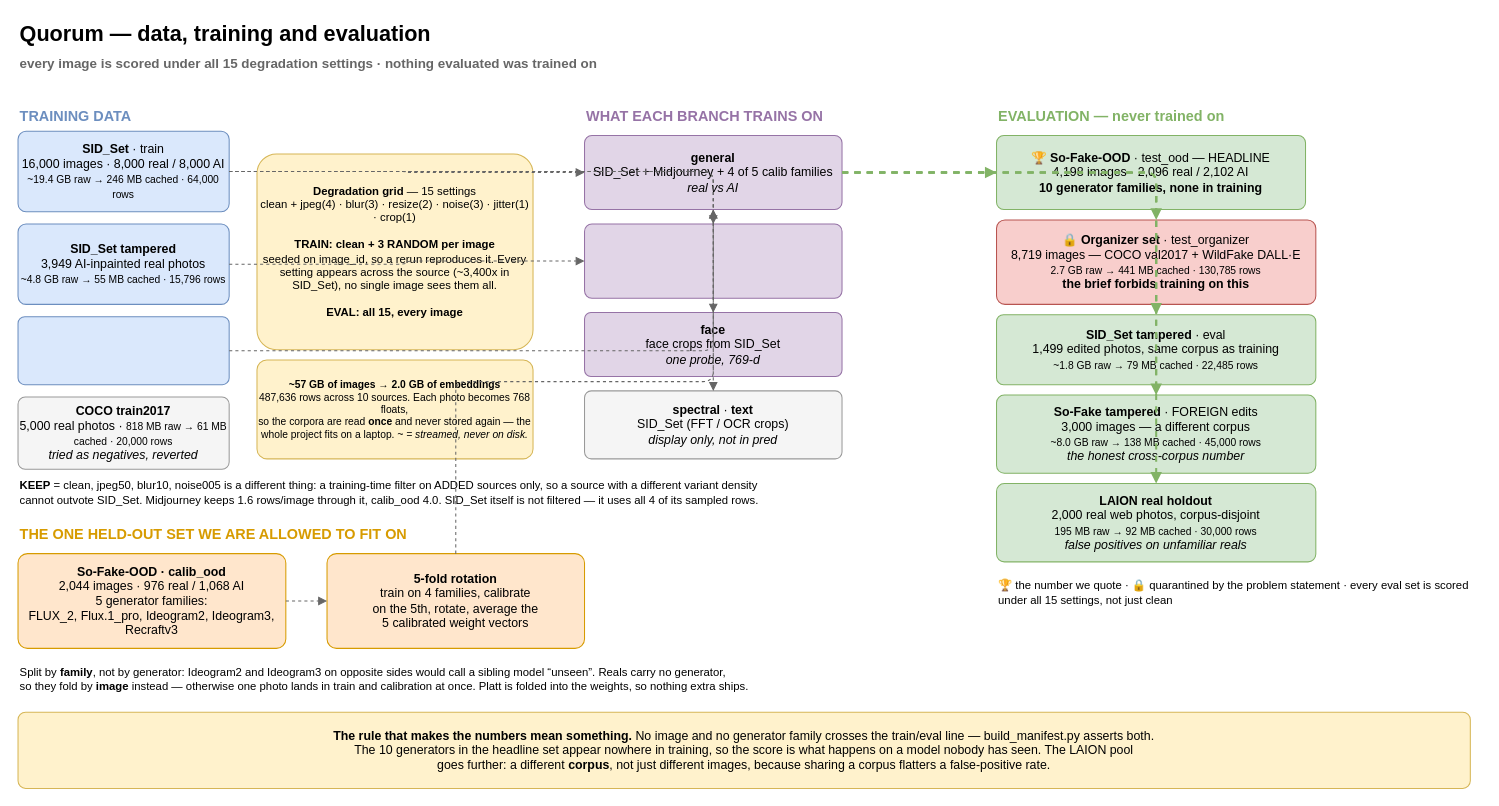
The diagram is 1499 pixels wide and 806 high, and some of its shapes have lost their labels. The shapes that lost their labels are listed below. From the top down, each one's box as (x1, y1, x2, y2) in pixels, then its label:
(583, 223, 842, 298): tampered SID_Set reals vs SID_Set tampered never sees a fully synthetic image
(17, 316, 229, 385): WildFake Midjourney 1,500 images · all AI 2.3 GB raw → 18 MB cached · 6,000 rows
